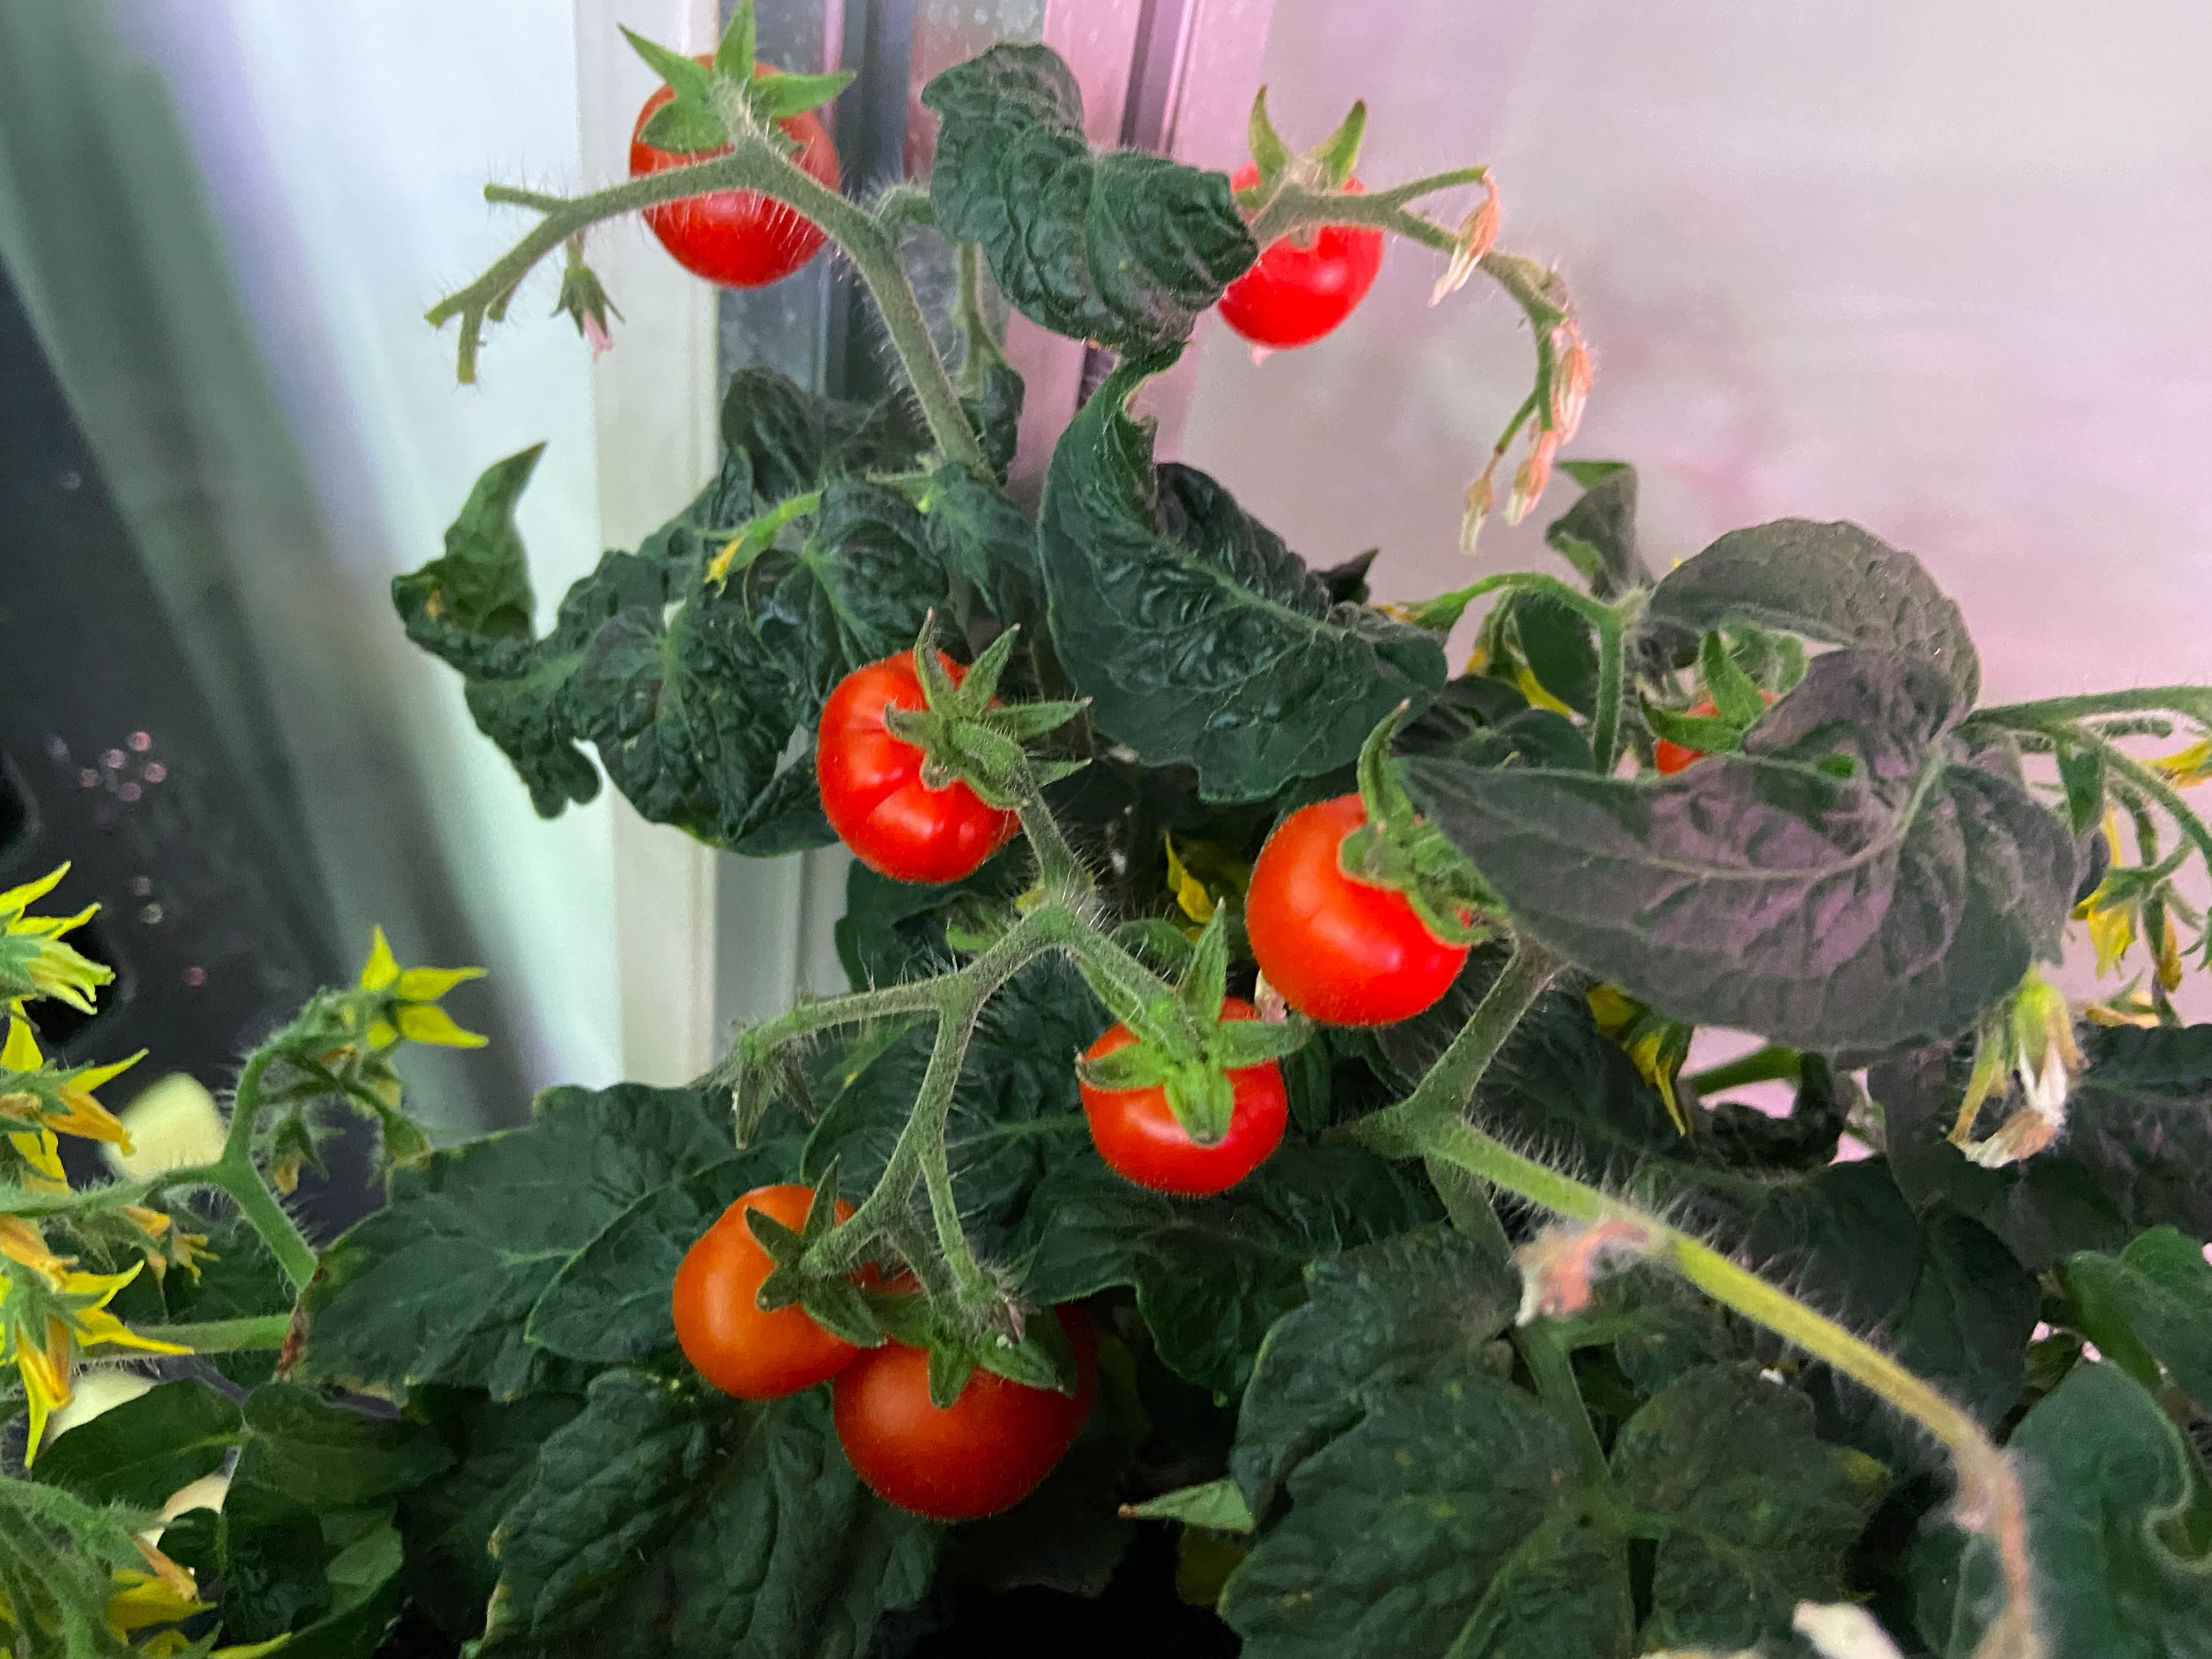red: (1240, 793, 1474, 1026), (836, 1310, 1087, 1521), (667, 1176, 906, 1396), (627, 54, 838, 288), (815, 645, 1015, 878), (1076, 997, 1294, 1197), (1209, 171, 1378, 350), (1656, 666, 1775, 782)
